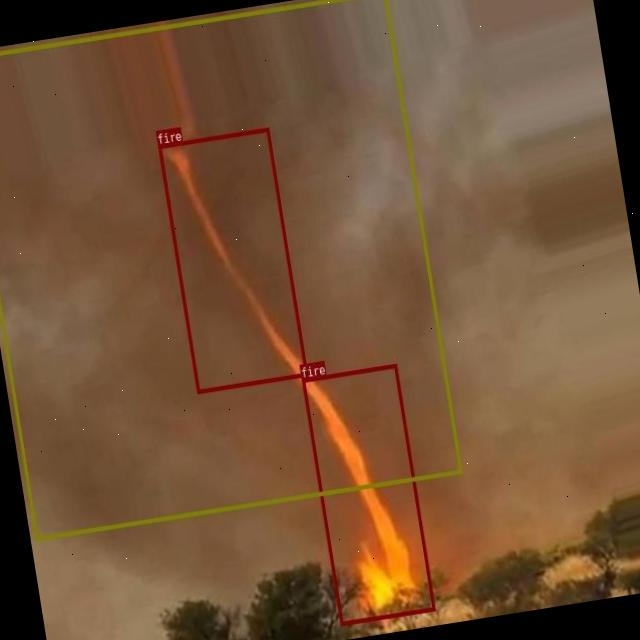fire: (158, 127, 308, 393), (302, 364, 436, 626)
smoke: (0, 0, 462, 540)
